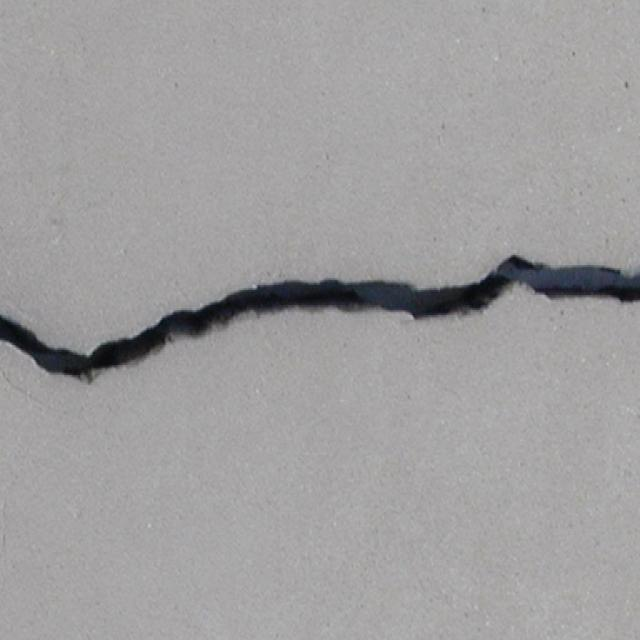crack: (1, 254, 638, 388)
